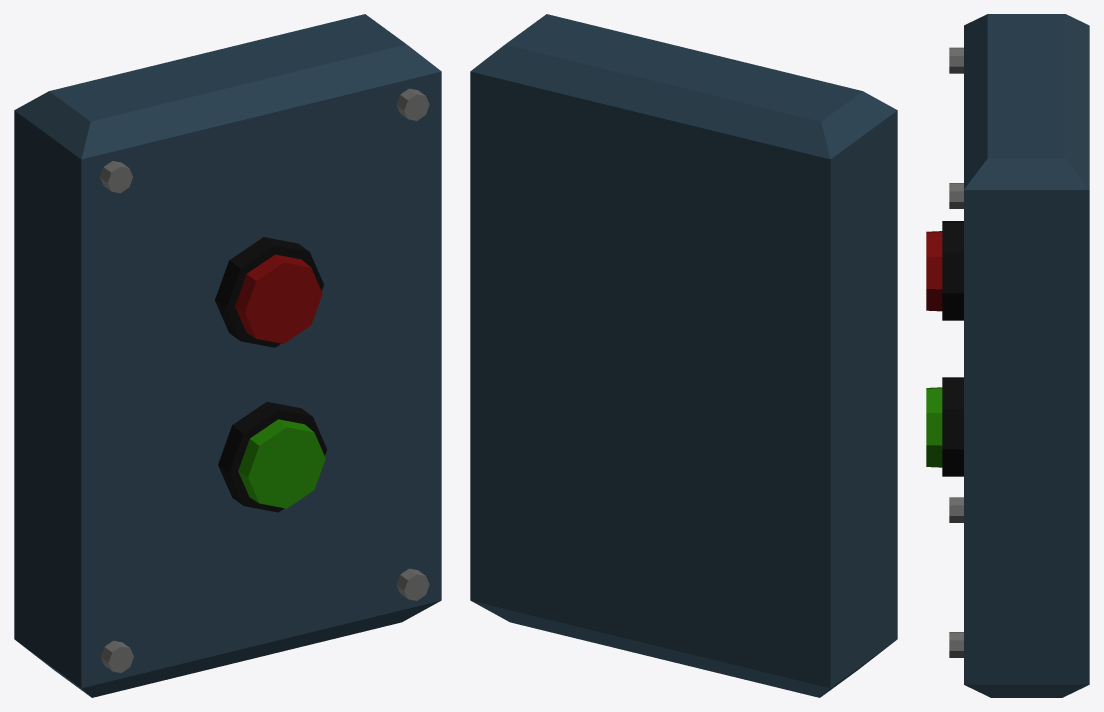
File: buttonbox.fbx
The picture shows the model from 3 angles, left to right: view 1: azimuth 30°, elevation 25°; view 2: azimuth 150°, elevation 25°; view 3: azimuth 270°, elevation 25°; orthographic projection. The views are drawn at different scales.
Visible parts, largest first — view 1: BoxWirebutton; view 2: BoxWirebutton; view 3: BoxWirebutton.
Part boxes in pixels (x1,y1,x2,y2): BoxWirebutton: (14,14,441,697); BoxWirebutton: (470,14,897,697); BoxWirebutton: (926,14,1089,697).
Bounding box in the file's own units: 26.81 × 41.12 × 11.23.
